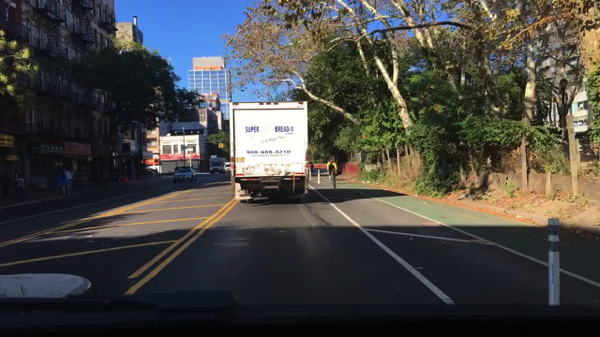bike: (329, 169, 335, 180)
bus: (326, 156, 337, 174)
car: (171, 166, 198, 184), (146, 168, 162, 180), (223, 161, 231, 172)
person: (0, 168, 13, 201), (15, 172, 26, 202), (11, 174, 20, 200), (112, 164, 120, 186), (308, 161, 315, 175), (329, 162, 335, 176)
traffic light: (221, 142, 224, 150), (217, 142, 220, 149)
traffic sign: (186, 147, 193, 152)
truck: (228, 99, 310, 204), (209, 156, 226, 175)
